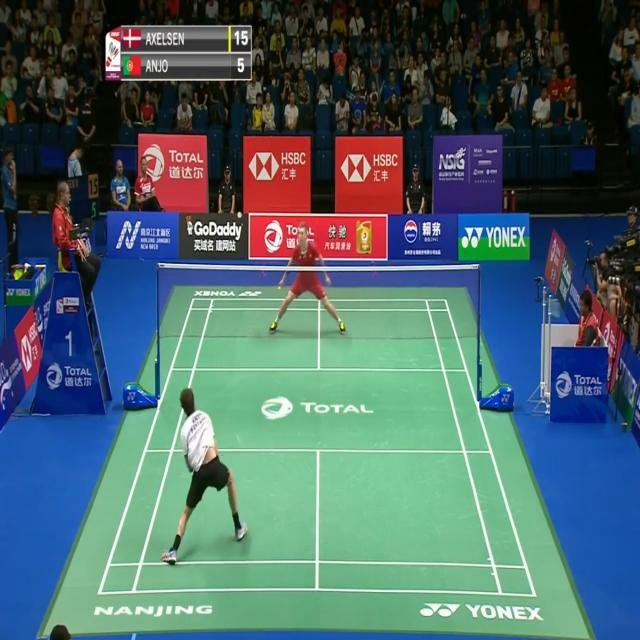Player1: (160, 386, 247, 564)
Player2: (268, 224, 348, 342)
